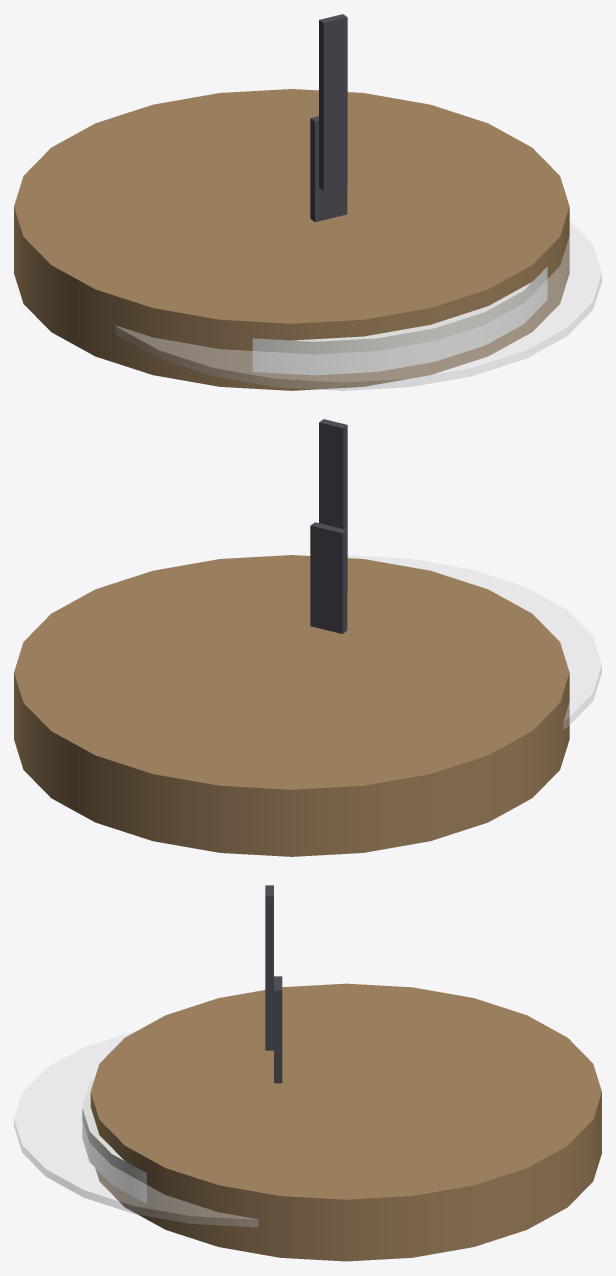
The model's file is clock_wall.glb.
The picture shows the model from 3 angles, top to bottom: view 1: azimuth 30°, elevation 25°; view 2: azimuth 150°, elevation 25°; view 3: azimuth 270°, elevation 25°; orthographic projection. The views are drawn at different scales.
Visible parts, largest first — view 1: frame, glass, face, minute_hand, hour_hand; view 2: frame, glass, hour_hand, minute_hand; view 3: frame, glass, face, minute_hand, hour_hand.
Part boxes in pixels (box(x1,y1,x2,y2)): frame: box(14, 89, 569, 390); glass: box(116, 222, 601, 390); face: box(252, 266, 547, 375); minute_hand: box(319, 14, 347, 190); hour_hand: box(310, 116, 347, 222); frame: box(14, 555, 569, 856); glass: box(348, 555, 601, 729); hour_hand: box(310, 522, 347, 633); minute_hand: box(319, 419, 347, 592); frame: box(90, 983, 601, 1261); glass: box(14, 1031, 257, 1226); face: box(82, 1078, 146, 1203); minute_hand: box(265, 885, 273, 1050); hour_hand: box(274, 976, 282, 1083).
Bounding box in the file's own units: 0.3 × 0.17 × 0.345.
